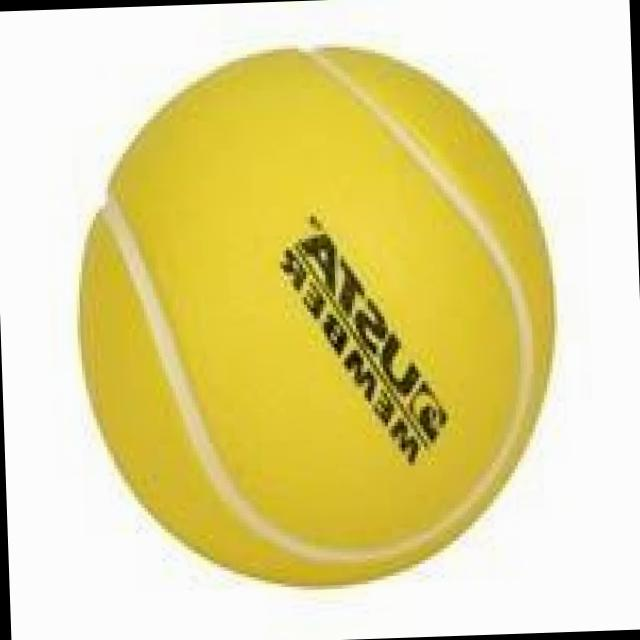Tennis Ball: (76, 46, 558, 590)
